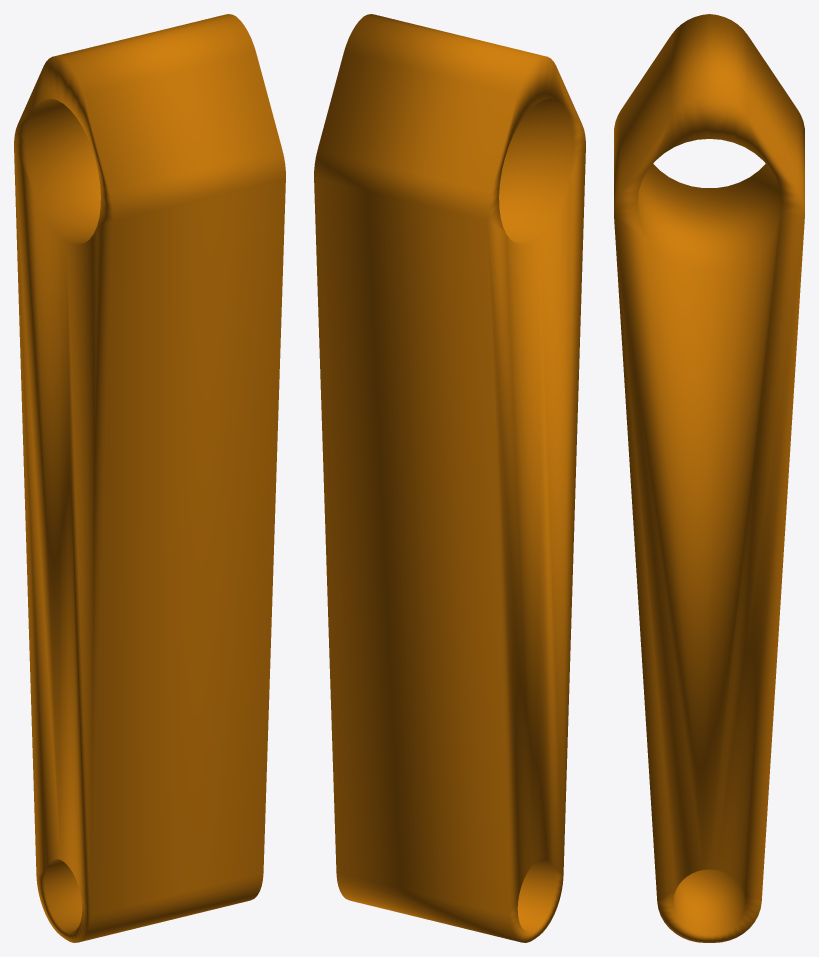
The model's file is viper_R_bt_sus.obj.
3 views of the same model, side by side, from view 1: azimuth 30°, elevation 25°; view 2: azimuth 150°, elevation 25°; view 3: azimuth 270°, elevation 25° (orthographic). The views are drawn at different scales.
Parts seen in each view (by area): view 1: viper_R_bt_sus; view 2: viper_R_bt_sus; view 3: viper_R_bt_sus.
Part boxes in pixels (x1,y1,x2,y2): viper_R_bt_sus: (14, 14, 285, 942); viper_R_bt_sus: (314, 14, 585, 942); viper_R_bt_sus: (614, 14, 804, 942).
Size of the model in its own units: 0.08 by 0.3887 by 0.0794.
